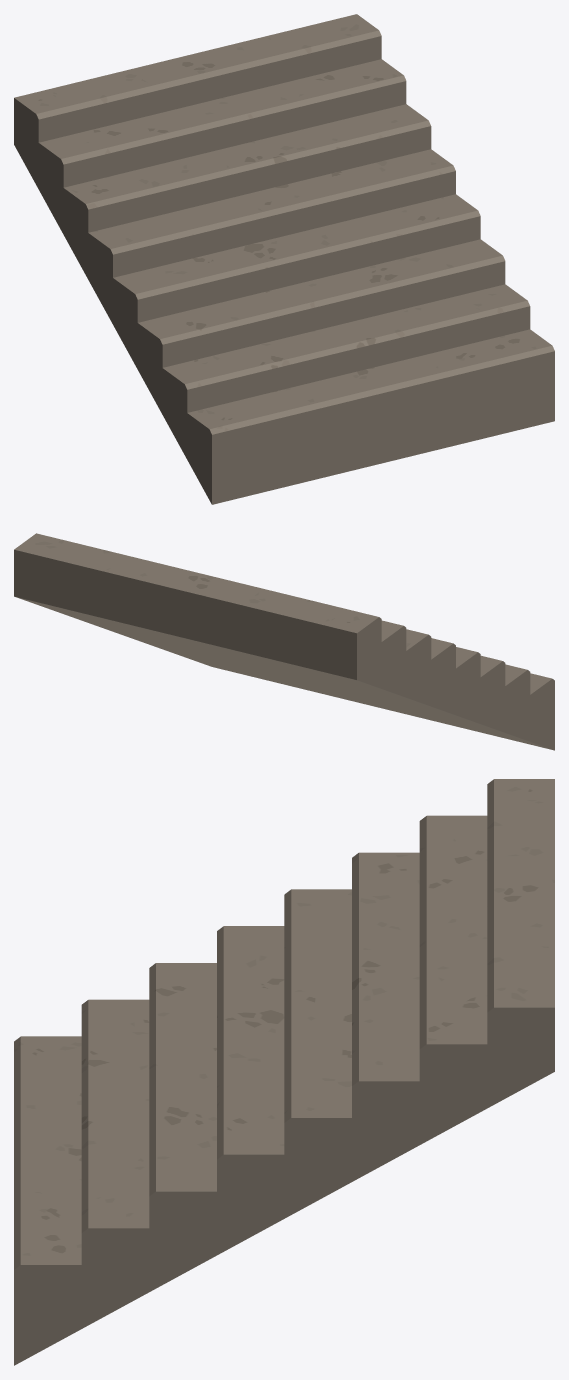
Rendered from SM_Bld_Base_Stairs_01.obj.
3 renders of one model, top to bottom at view 1: azimuth 30°, elevation 25°; view 2: azimuth 150°, elevation 25°; view 3: azimuth 270°, elevation 25°, orthographic. The views are drawn at different scales.
Parts seen in each view (by area): view 1: SM_Bld_Base_Stairs_01_0; view 2: SM_Bld_Base_Stairs_01_0; view 3: SM_Bld_Base_Stairs_01_0.
Boxes of the visible parts, x1=… form: SM_Bld_Base_Stairs_01_0: x1=14, y1=14, x2=554, y2=504; SM_Bld_Base_Stairs_01_0: x1=14, y1=533, x2=554, y2=750; SM_Bld_Base_Stairs_01_0: x1=14, y1=779, x2=554, y2=1365.
Bounding box in the file's own units: 2.5 × 1.83 × 2.5.
1 material, 1 textured.
